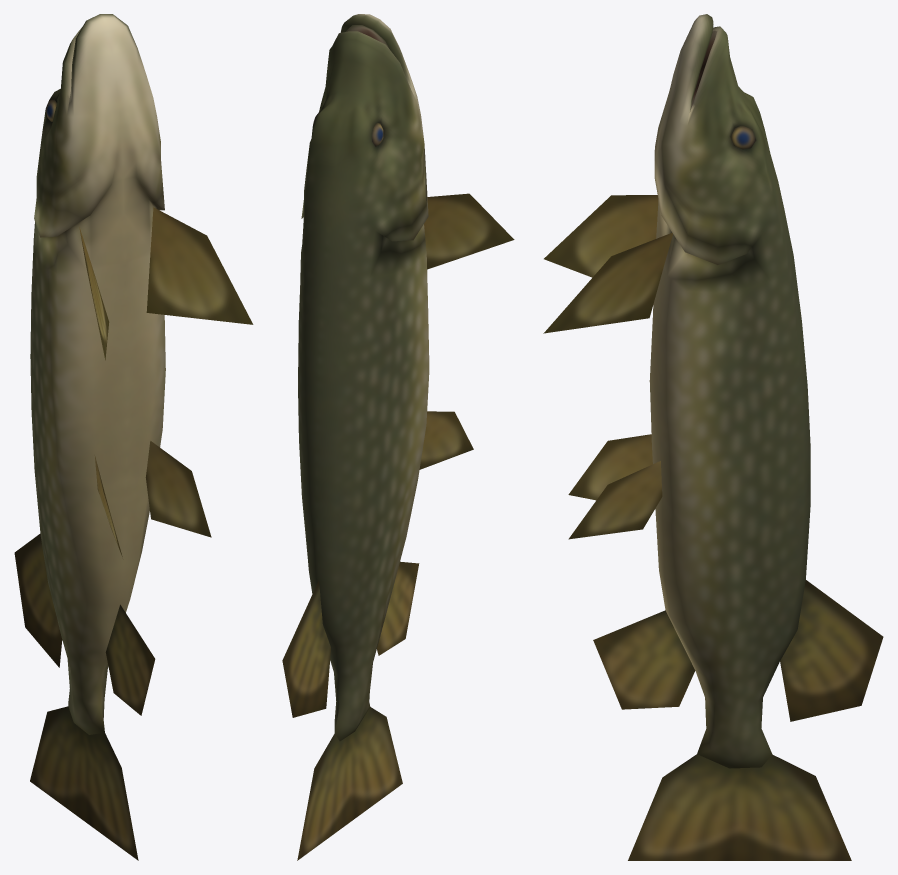
Rendered from pike.glb.
The picture shows the model from 3 angles, left to right: view 1: azimuth 30°, elevation 25°; view 2: azimuth 150°, elevation 25°; view 3: azimuth 270°, elevation 25°; orthographic projection. The views are drawn at different scales.
Visible parts, largest first — view 1: FishPaiku__mPaiku; view 2: FishPaiku__mPaiku; view 3: FishPaiku__mPaiku.
Part boxes in pixels (x1=…): FishPaiku__mPaiku: x1=14, y1=14, x2=253, y2=860; FishPaiku__mPaiku: x1=282, y1=14, x2=514, y2=860; FishPaiku__mPaiku: x1=543, y1=14, x2=883, y2=860.
Size of the model in its own units: 0.2564 by 1.35 by 0.4949.
Materials: 1 (1 with a texture image).
